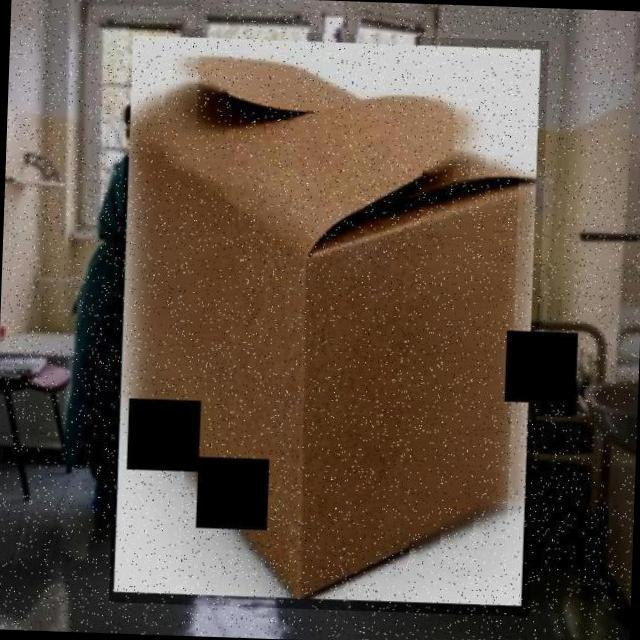box: (109, 26, 550, 616)
